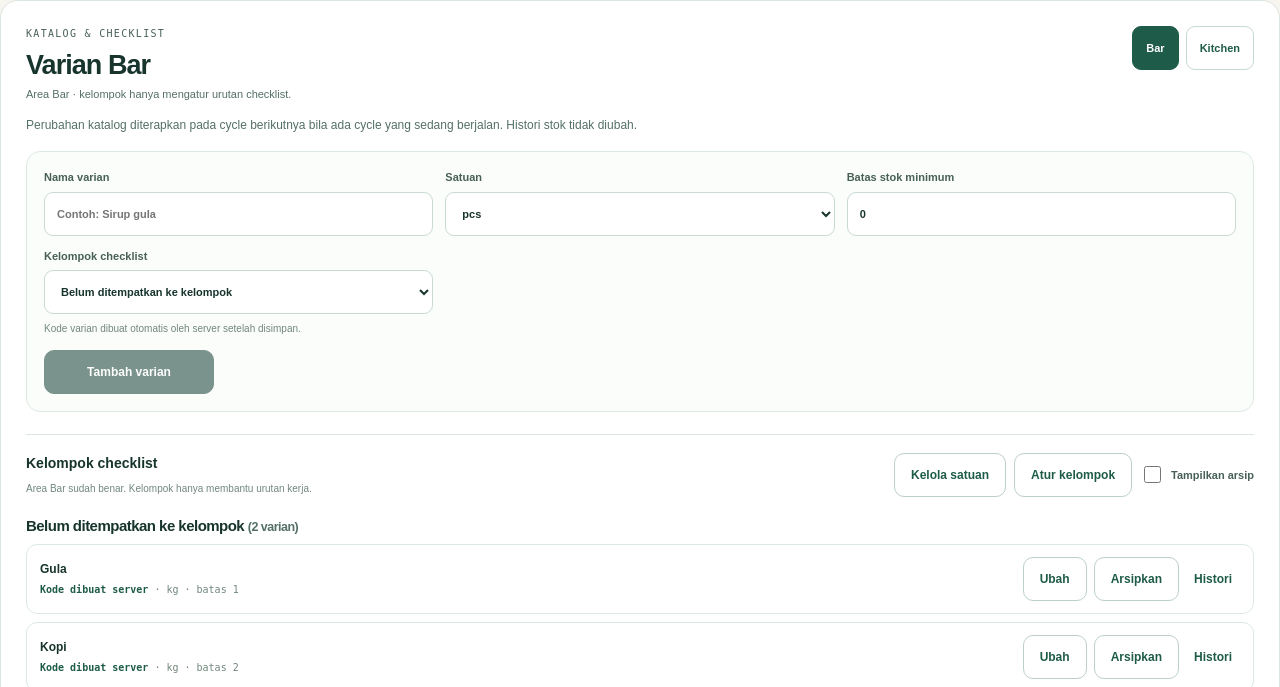
CatalogManager › creates items and reports next-cycle effect without claiming instant availability
Check: the text "Gula" is shown, box [40,562,67,576]
Type "Teh" into the field with placeholder "Contoh: Sirup gula" at point(239, 214), box [44,192,433,236]
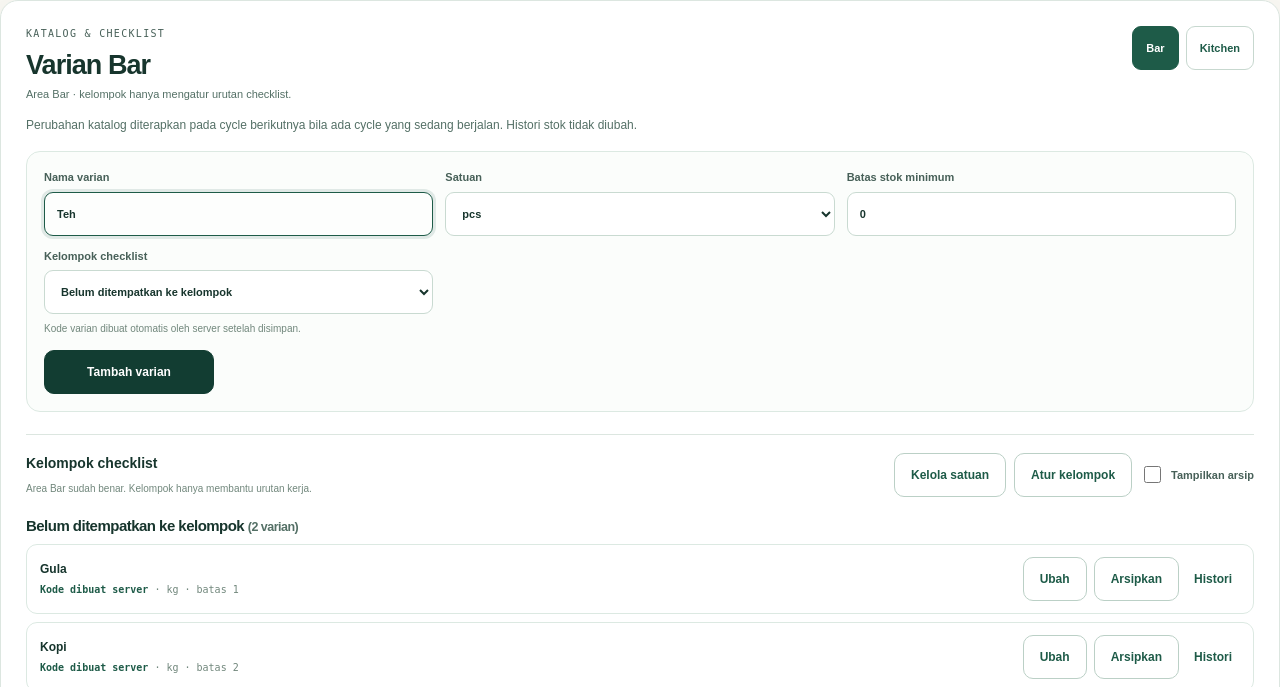
Click the button "Tambah varian" at point(129, 372), box [44,350,214,394]
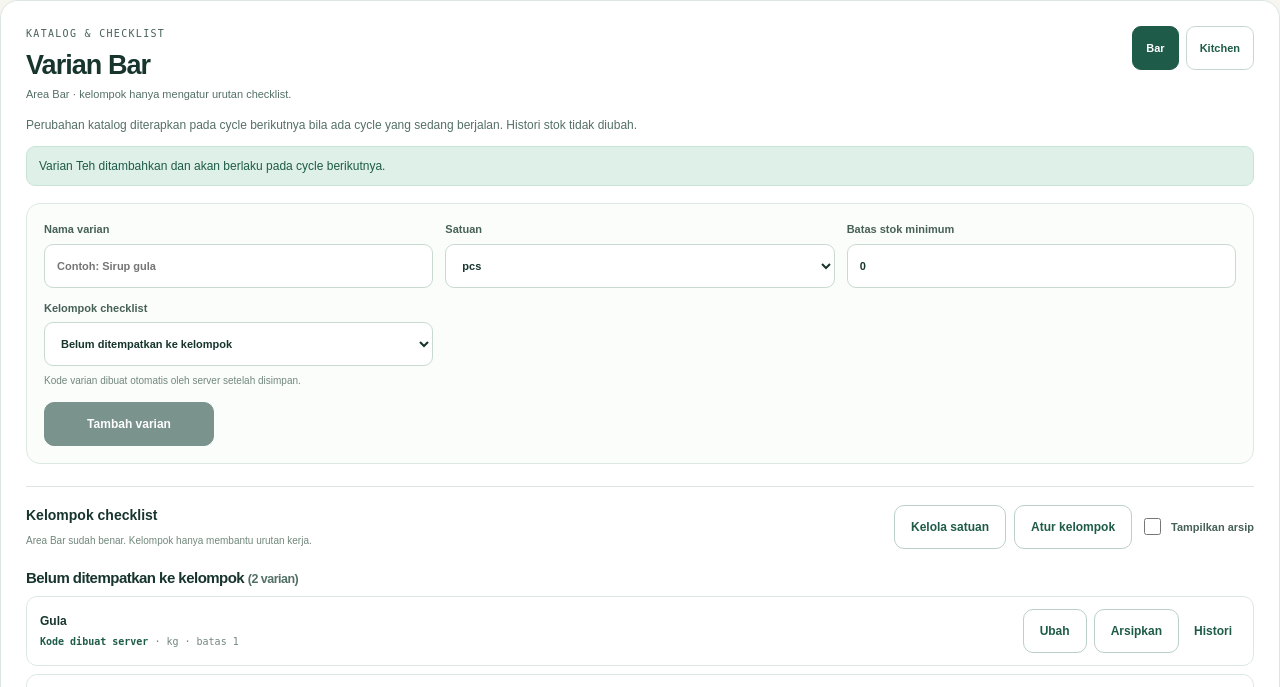
Check: the message shows "cycle berikutnya", box [39,160,386,174]
